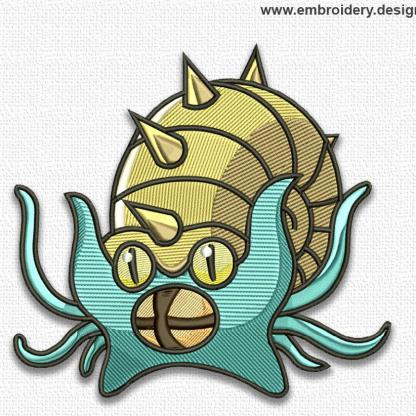Omastar: (7, 57, 404, 404)
